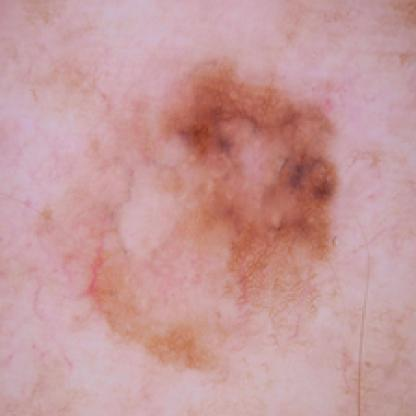Skin_Cancer-Malignant: (153, 61, 340, 277)
